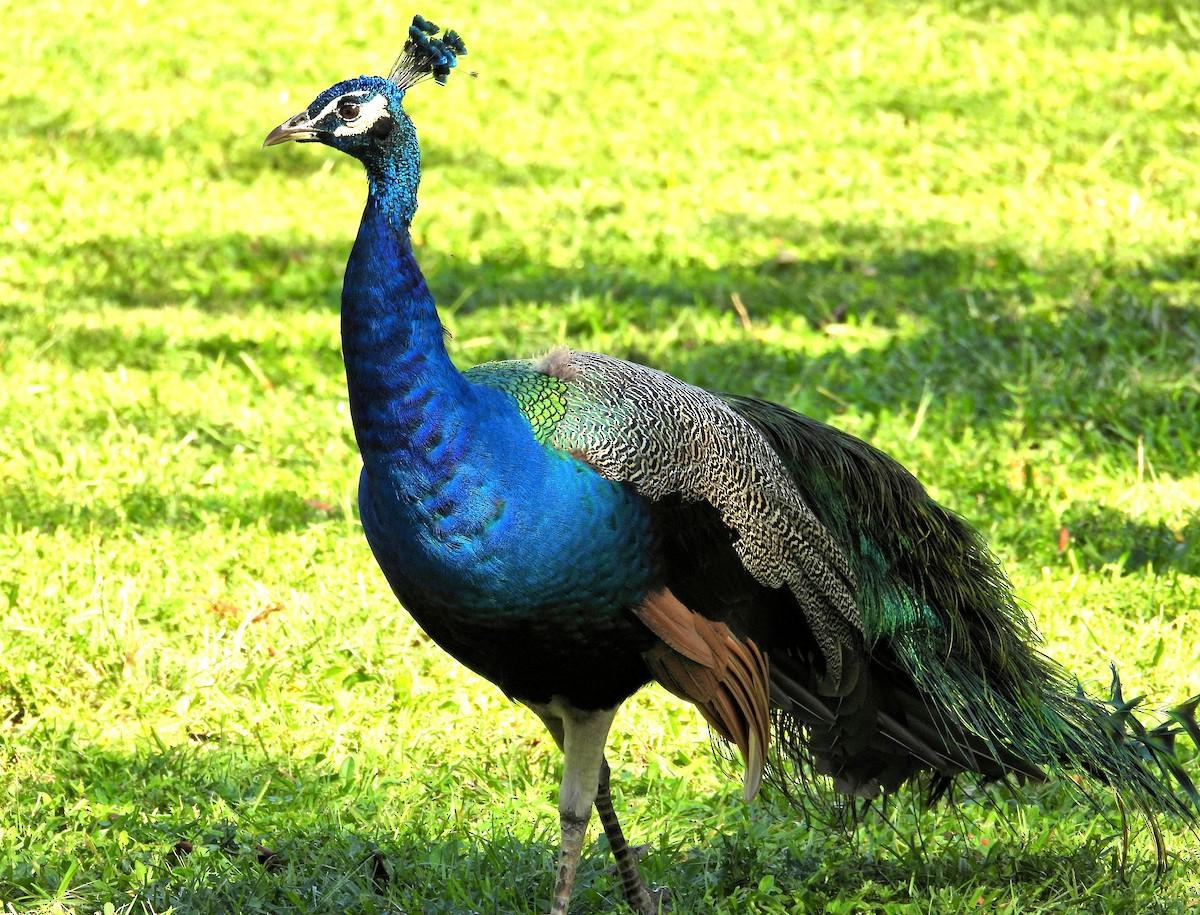peacock: (270, 62, 988, 915)
